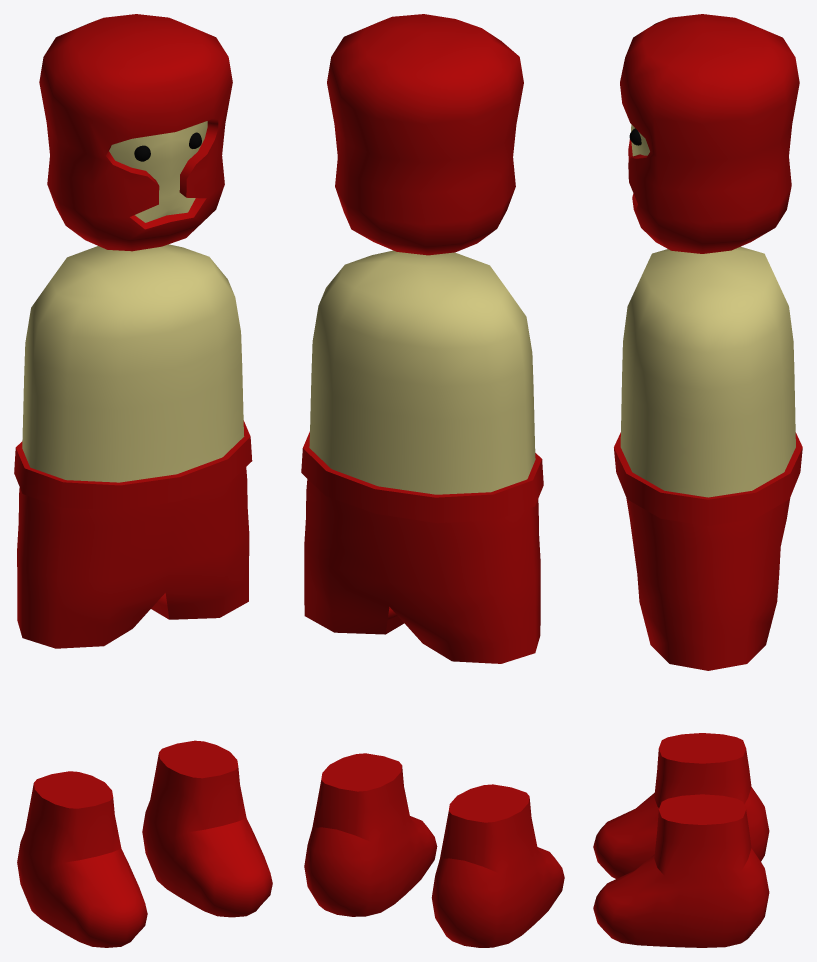
File: boxer_w.o_hands_red.fbx
3 renders of one model, left to right at view 1: azimuth 30°, elevation 25°; view 2: azimuth 150°, elevation 25°; view 3: azimuth 270°, elevation 25°, orthographic.
Visible parts, largest first — view 1: body1, helmet, L_boot1, R_boot1; view 2: body1, helmet, L_boot1, R_boot1; view 3: body1, helmet, L_boot1, R_boot1.
Part boxes in pixels (<box>): body1: <box>14,244,252,648</box>; helmet: <box>39,14,232,251</box>; L_boot1: <box>142,740,272,917</box>; R_boot1: <box>17,771,147,947</box>; body1: <box>301,250,543,663</box>; helmet: <box>327,14,523,255</box>; L_boot1: <box>304,753,437,916</box>; R_boot1: <box>431,784,564,947</box>; body1: <box>614,246,802,670</box>; helmet: <box>620,14,799,253</box>; L_boot1: <box>593,794,769,947</box>; R_boot1: <box>593,733,769,878</box>.
Size of the model in its own units: 0.616 by 2.29 by 0.5021.
